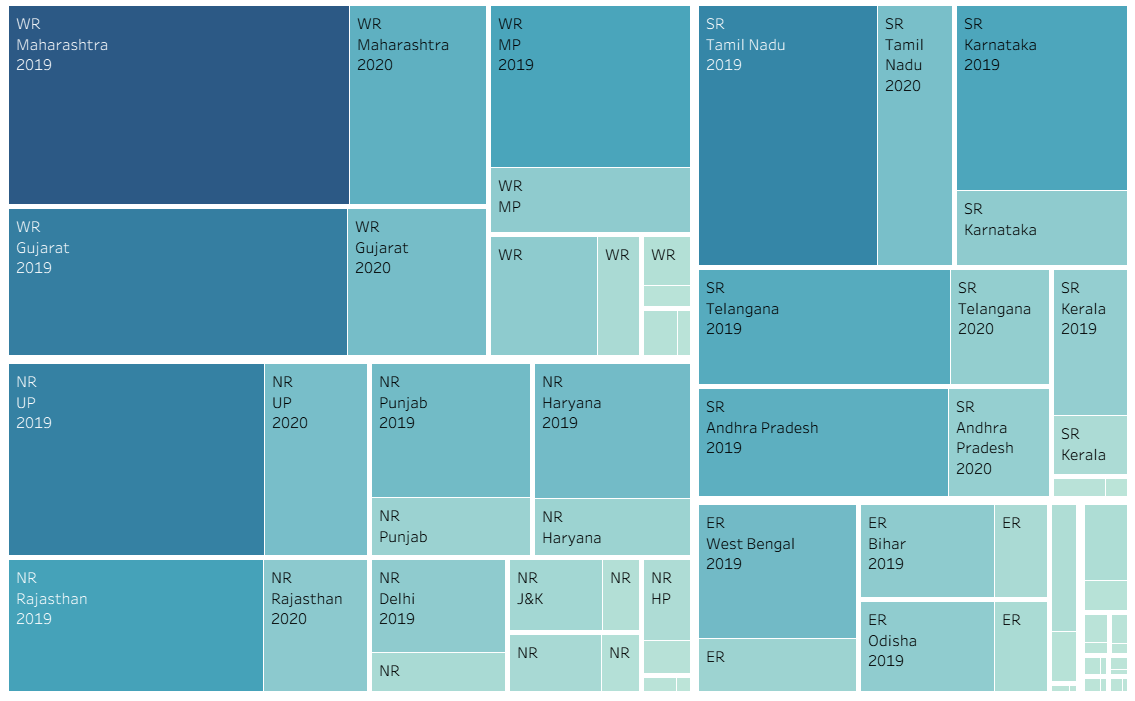

The dashboard page shown, as its layout file describes it:
{"tool":"tableau","page":{"name":"Dashboard 2","canvas":[1366,768],"ordinal":1},"visuals":[{"type":"legend","title":"Regionwise state consumption","param":"[federated.0ul367e1vxvr4s1bat1az1wz7l5i].[none:States:nk]","box":[1198,8,160,696]},{"type":"worksheet","title":"Regionwise state consumption","mark":"Automatic","rows":["Regions","States"],"cols":["Dates","Usage"],"box":[18,30,479,735]},{"type":"worksheet","title":"Top N","mark":"Automatic","rows":["Dates","Usage"],"cols":["States"],"box":[505,37,681,292]},{"type":"worksheet","title":"Bottom N","mark":"Automatic","rows":["Dates","Usage"],"cols":["States"],"box":[504,351,677,302]},{"type":"dashboard-object","box":[552,682,145,47]},{"type":"dashboard-object","box":[836,683,152,47]},{"type":"parameter","param":"[Parameters].[Parameter 1]","box":[1198,704,160,56]}]}

Visuals, with their boxes on the page's 1366x768 design canvas (x1, y1, x2, y2). These are canvas units, not pixel positions in the 1135x701 screenshot, which may show the page scaled, cropped or inside an application window:
"Regionwise state consumption" legend: detection(1198, 8, 1358, 704)
"Regionwise state consumption" worksheet: detection(18, 30, 497, 765)
"Top N" worksheet: detection(505, 37, 1186, 329)
"Bottom N" worksheet: detection(504, 351, 1181, 653)
dashboard-object: detection(552, 682, 697, 729)
dashboard-object: detection(836, 683, 988, 730)
parameter: detection(1198, 704, 1358, 760)
